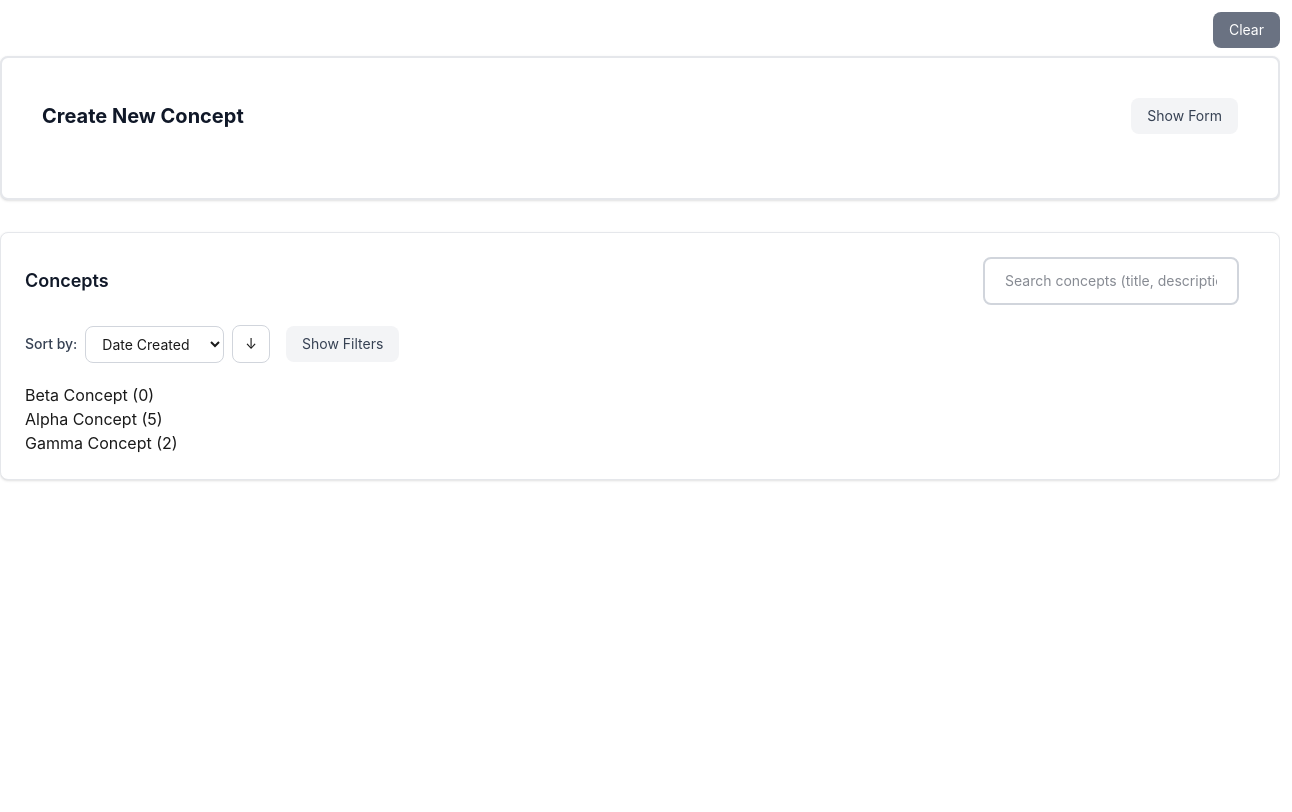
Test case: ConceptsTab › should show filters when filter button is clicked
The image size is (1292, 812).
Click the button "Show Filters".
click(343, 344)  # box [286,326,399,362]
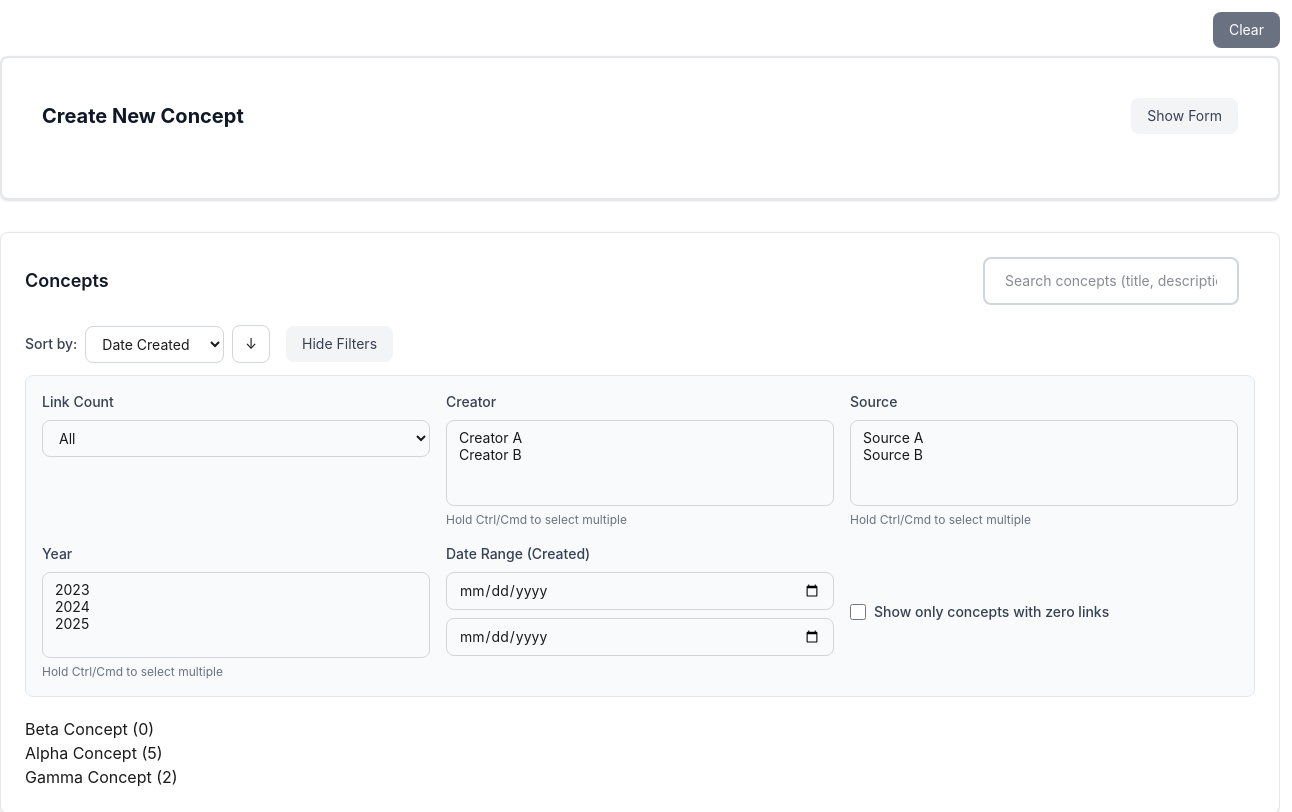
Expected: the button "Hide Filters" is shown, [286,326,393,362]
